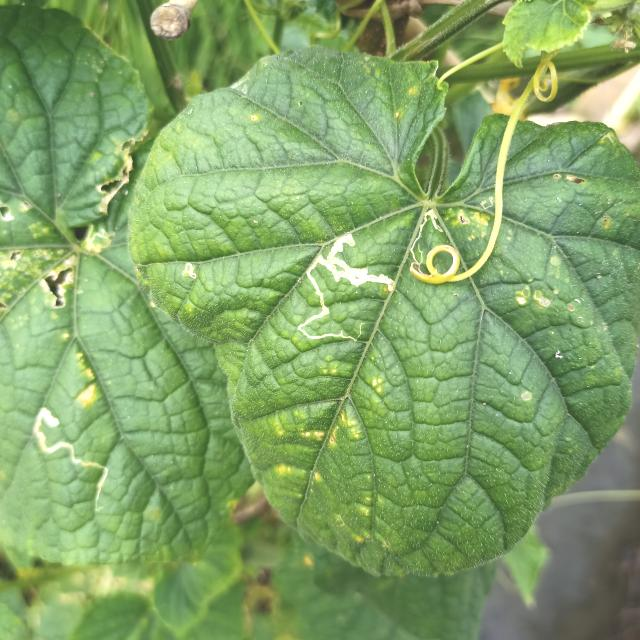disease_cucumber: (300, 377, 384, 450), (451, 208, 491, 242)
